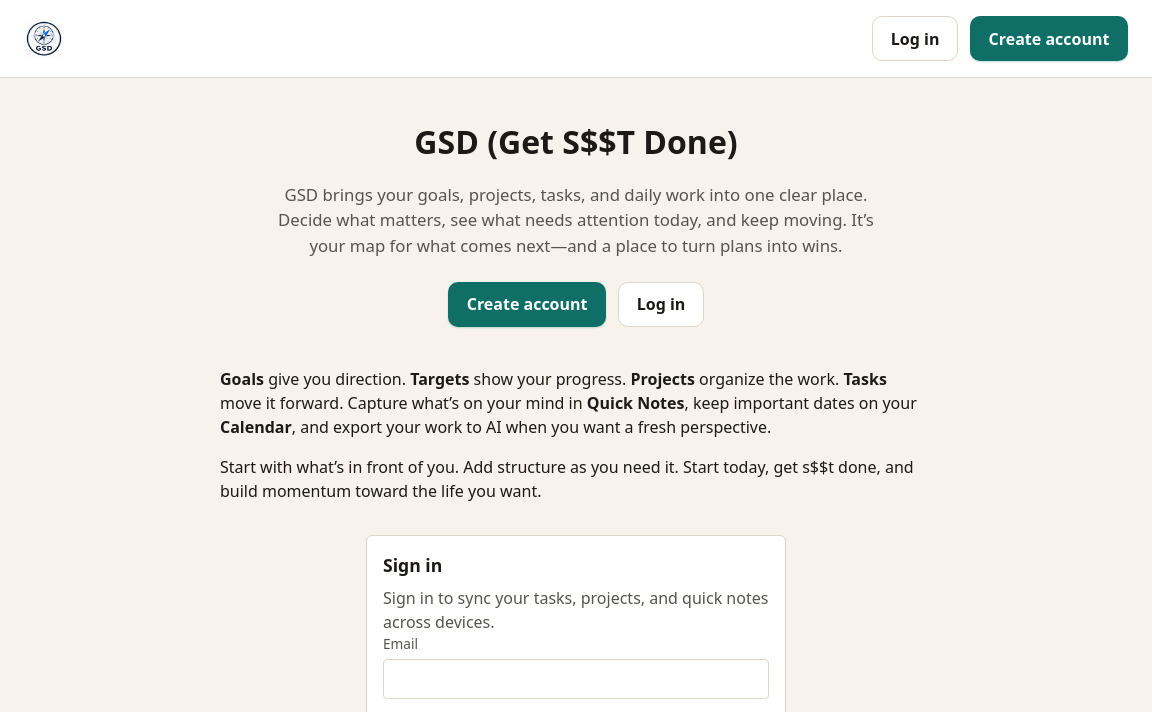
it: AuthGate — signed out (Supabase configured) › the top Log in / Create account buttons switch the embedded account form
Expected: the heading "Sign in" is shown, [383, 553, 442, 577]
Click the 1st button "Create account" at x=1049, y=39, box [970, 16, 1128, 61]
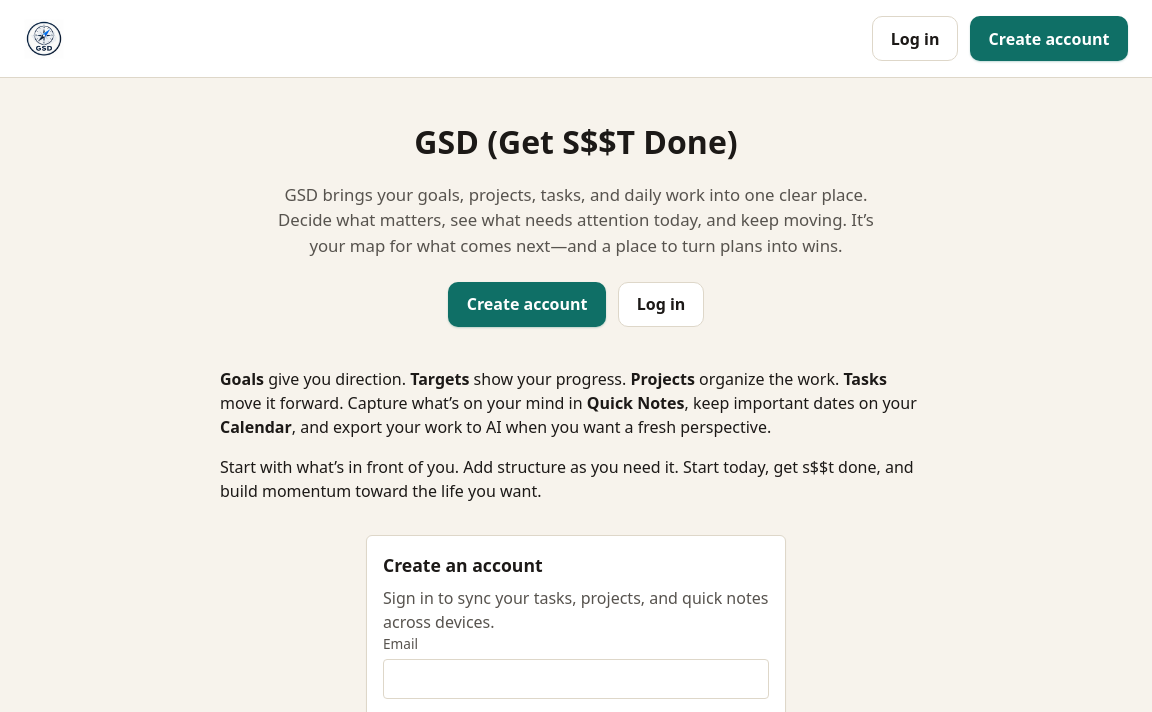
Expected: the heading "Create an account" is shown, [383, 553, 543, 577]
Click the 1st button "Log in" at x=915, y=39, box [872, 16, 958, 61]
(page scrolled)
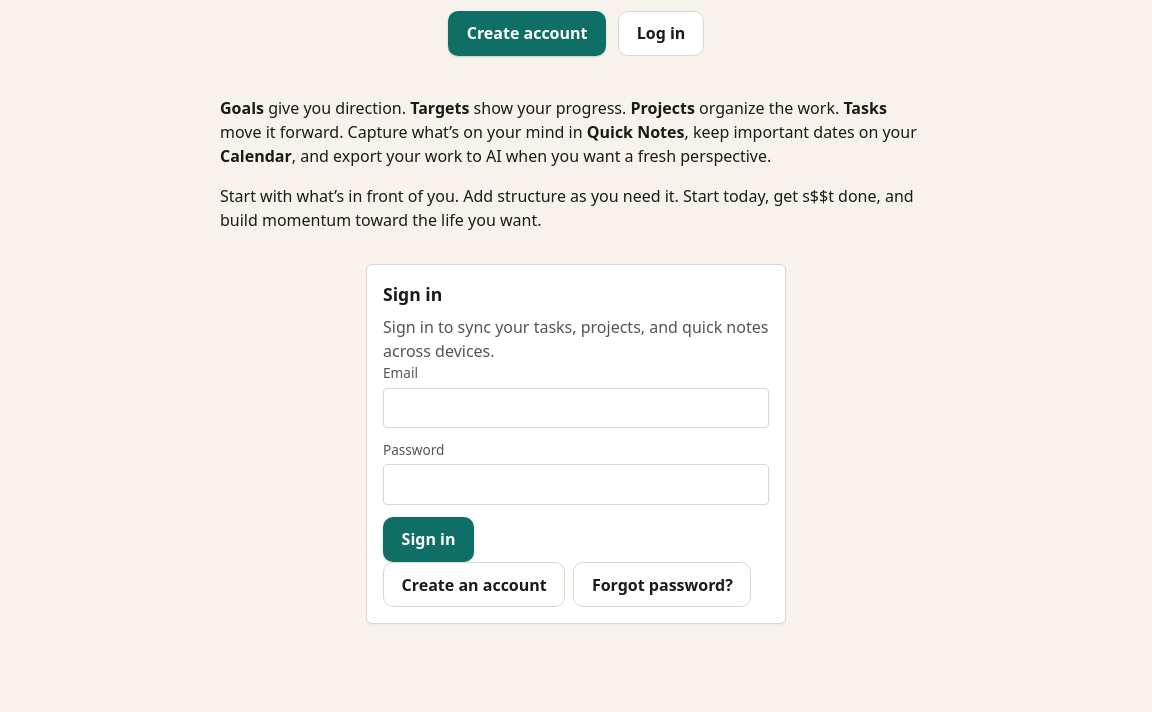
Expected: the heading "Sign in" is shown, [383, 282, 442, 306]
